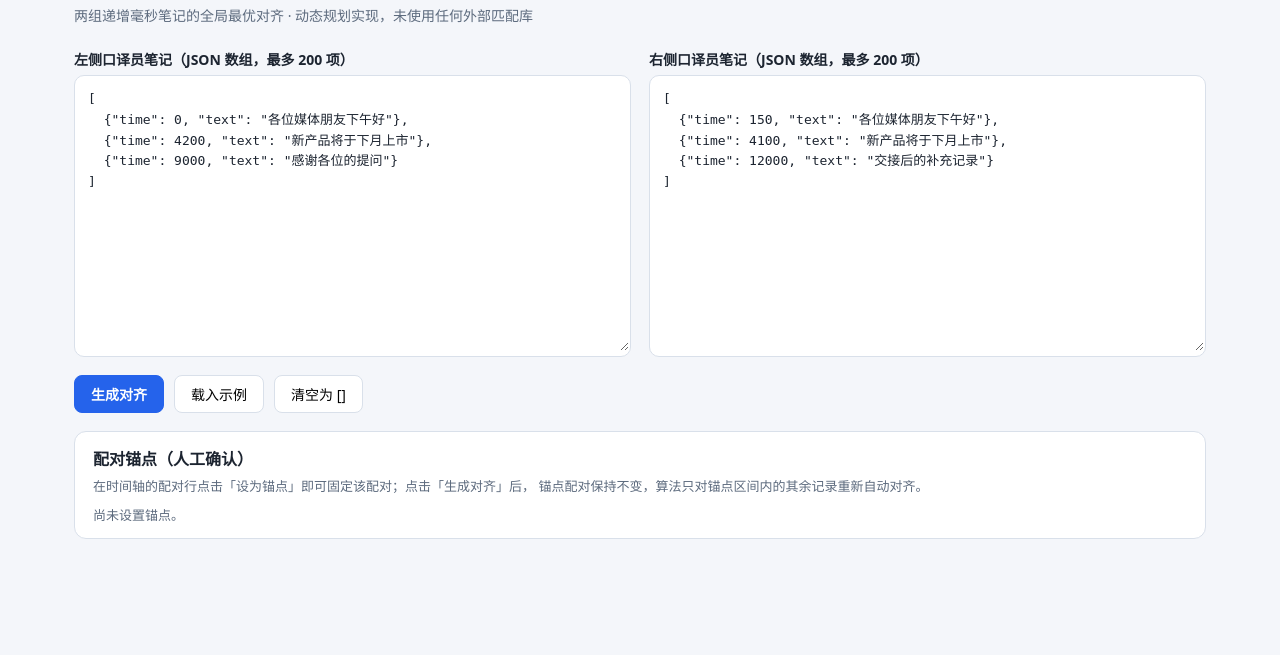
App › supports step-by-step replay of the timeline
Step 1. Click the button with test id "submit" → click(119, 394), box [74,375,164,413]
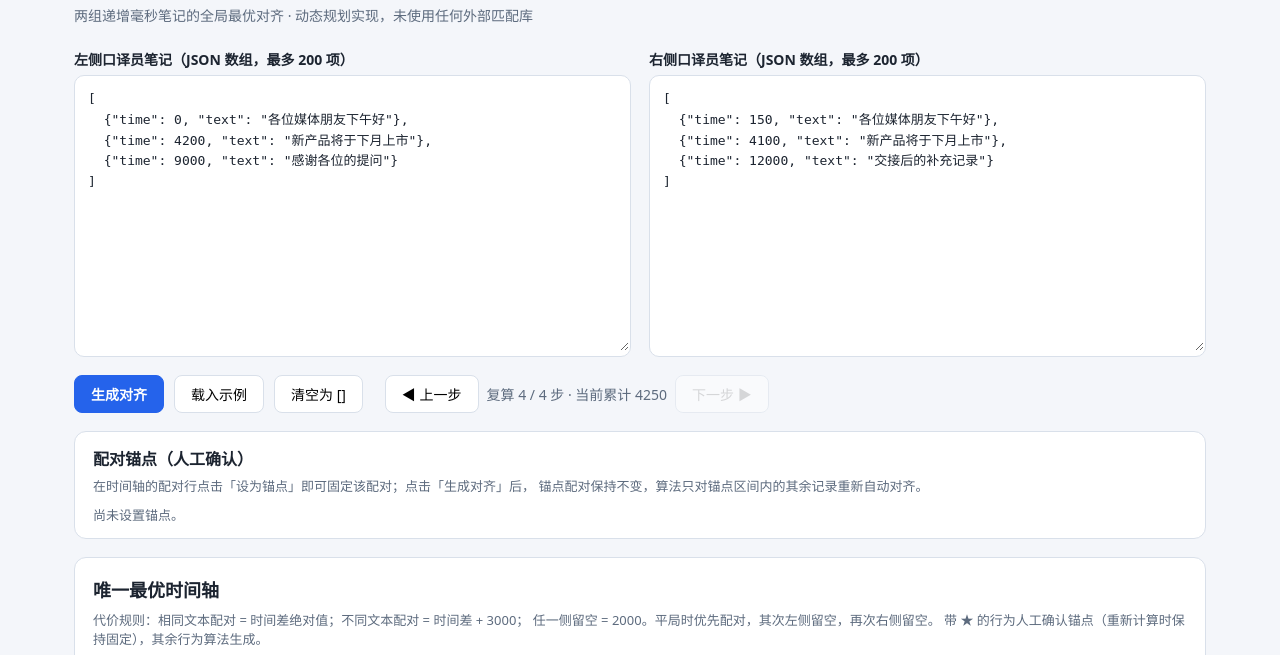
Note: Walk back to the first step: one row, running total 150.
Step 2. Click the button with test id "step-back" → click(432, 394), box [385,375,478,413]
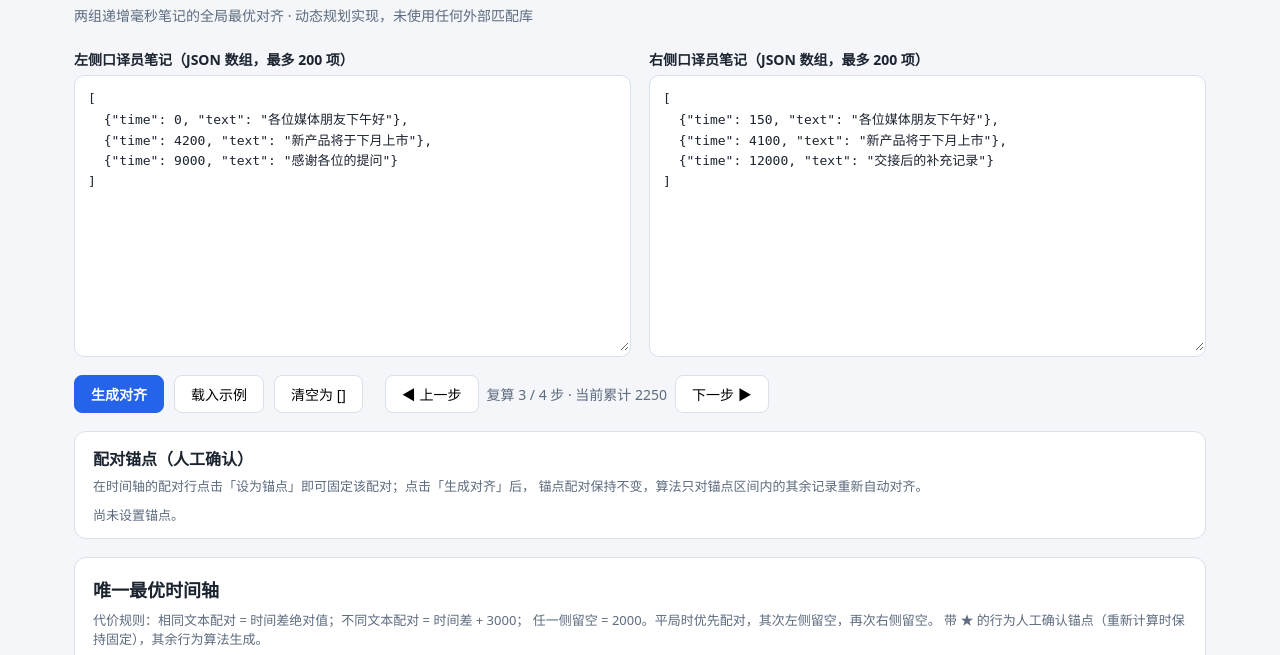
Step 3. Click the button with test id "step-back" → click(432, 394), box [385,375,478,413]
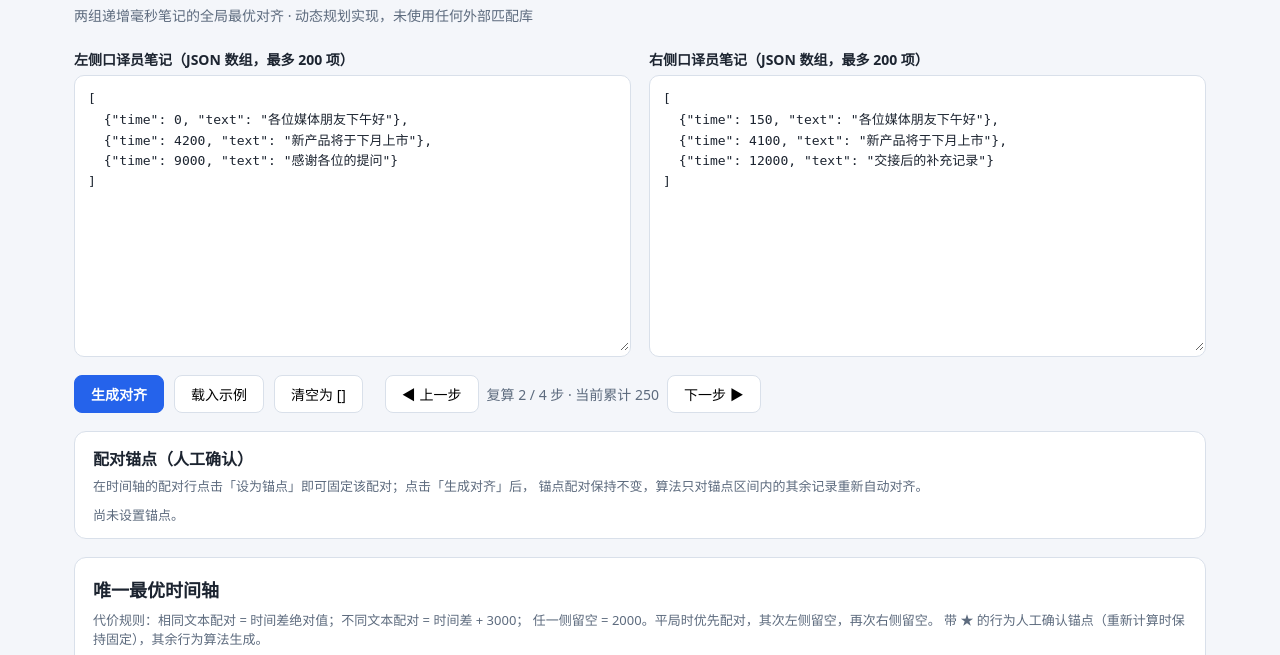
Step 4. Click the button with test id "step-back" → click(432, 394), box [385,375,478,413]
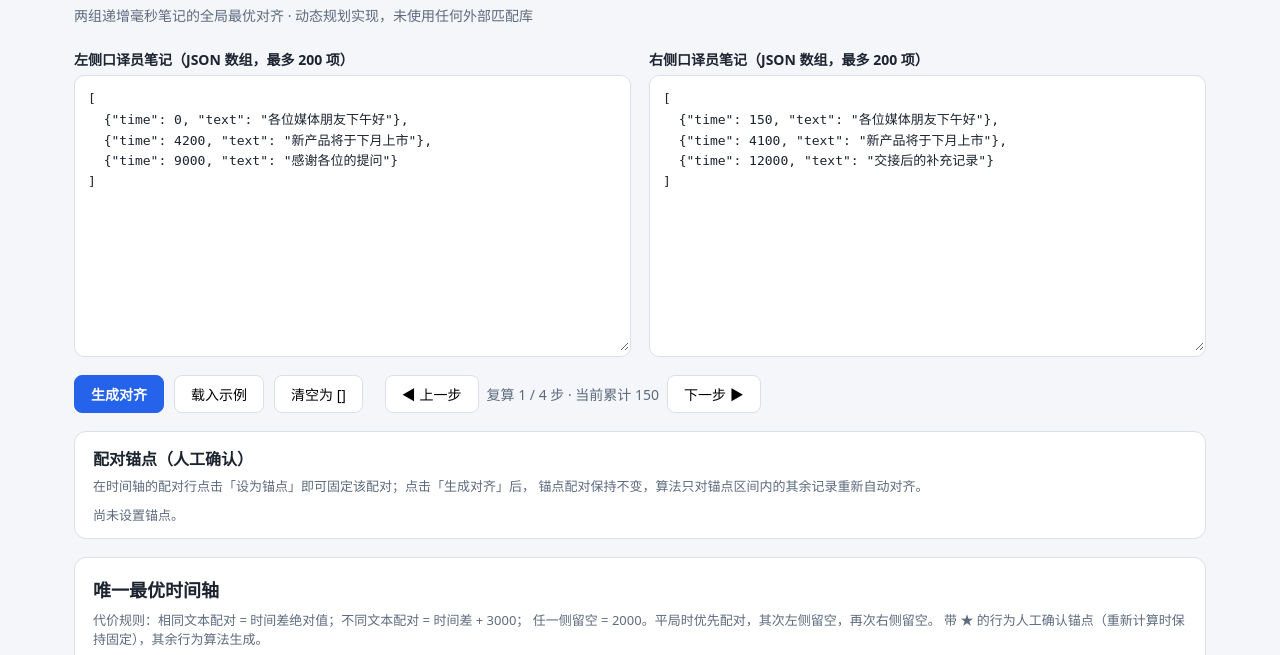
Check: the text with test id "replay-count" shows "复算 1 / 4", box [486,384,659,404]
Note: Advance one step at a time.
Step 5. Click the button with test id "step-next" → click(714, 394), box [667,375,761,413]
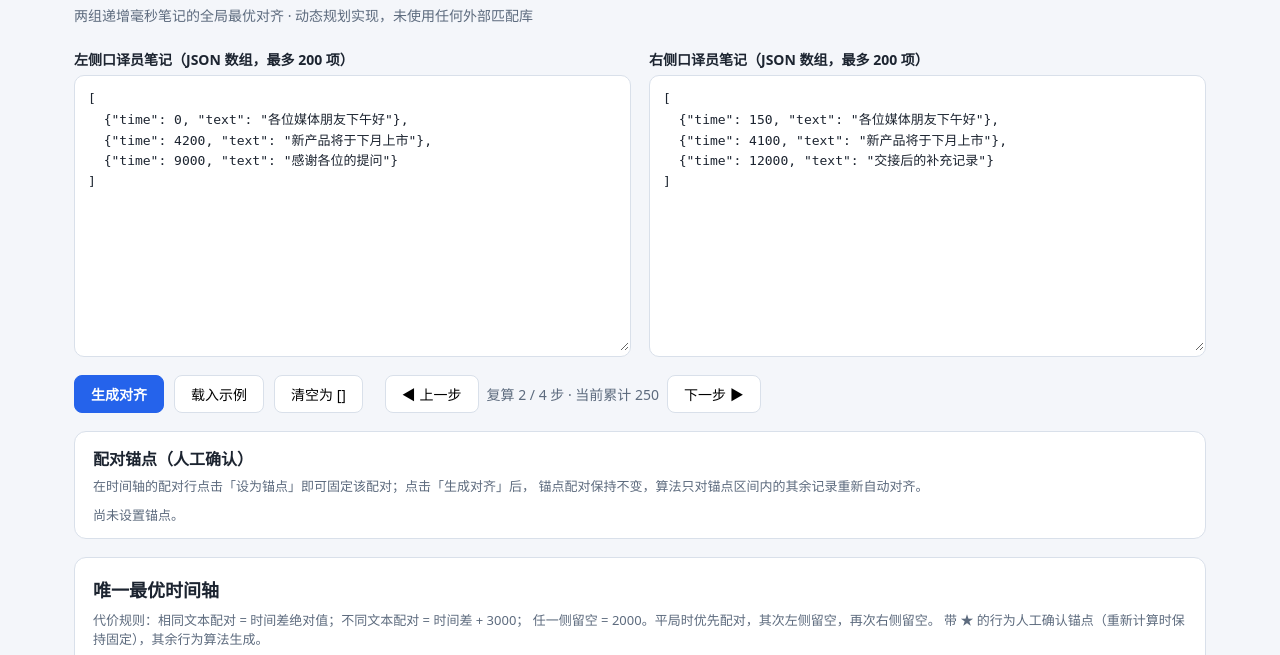
Step 6. Click the button with test id "step-next" → click(714, 394), box [667,375,761,413]
(page scrolled)
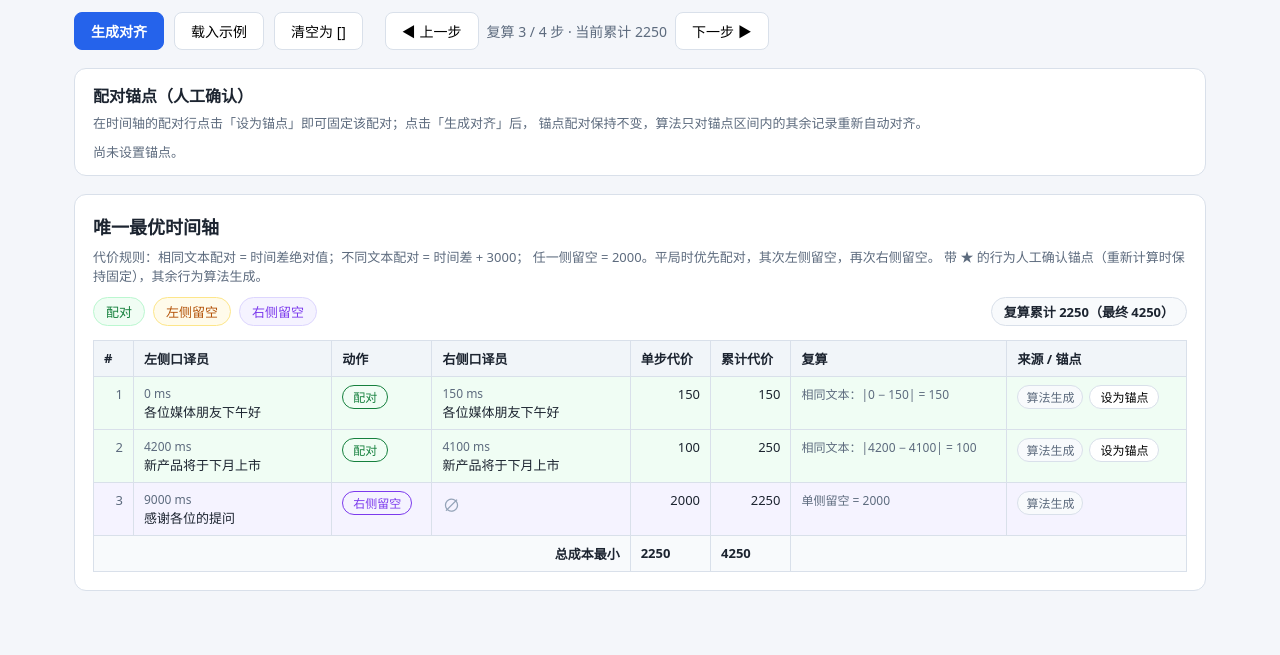
Check: the text with test id "total-cost" reads "2250", box [1059,303,1089,321]
